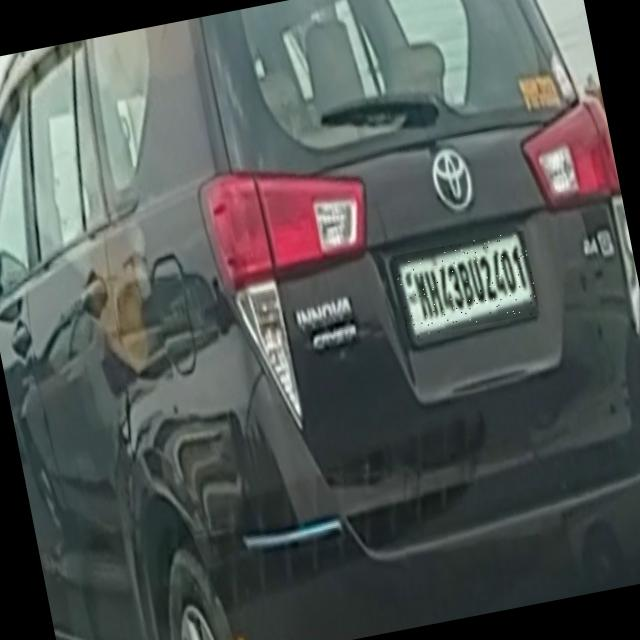Plate: (393, 232, 541, 340)
